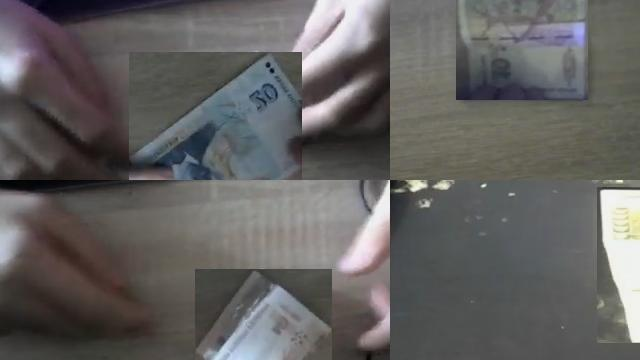10leva: (456, 0, 588, 100), (597, 188, 640, 345), (597, 187, 640, 343)
20leva: (129, 52, 302, 180)
5leva: (195, 269, 332, 360)
